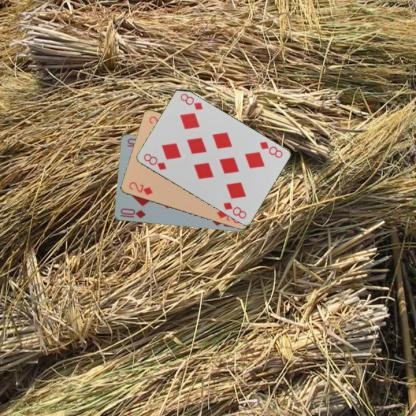10d: (117, 206, 147, 220)
2d: (126, 179, 154, 197)
8d: (140, 150, 168, 172), (256, 138, 284, 160)
